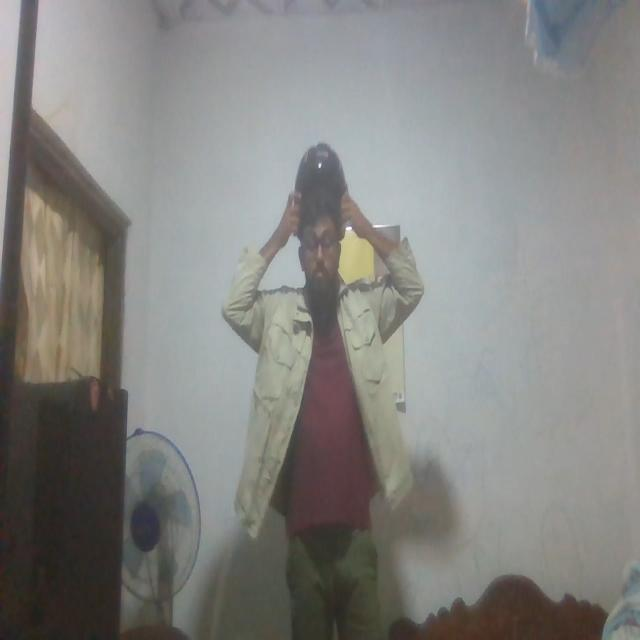Helmet_Wearer: (293, 143, 351, 304)
Jacket_Wearer: (231, 252, 425, 538)
Person: (230, 139, 415, 640)
